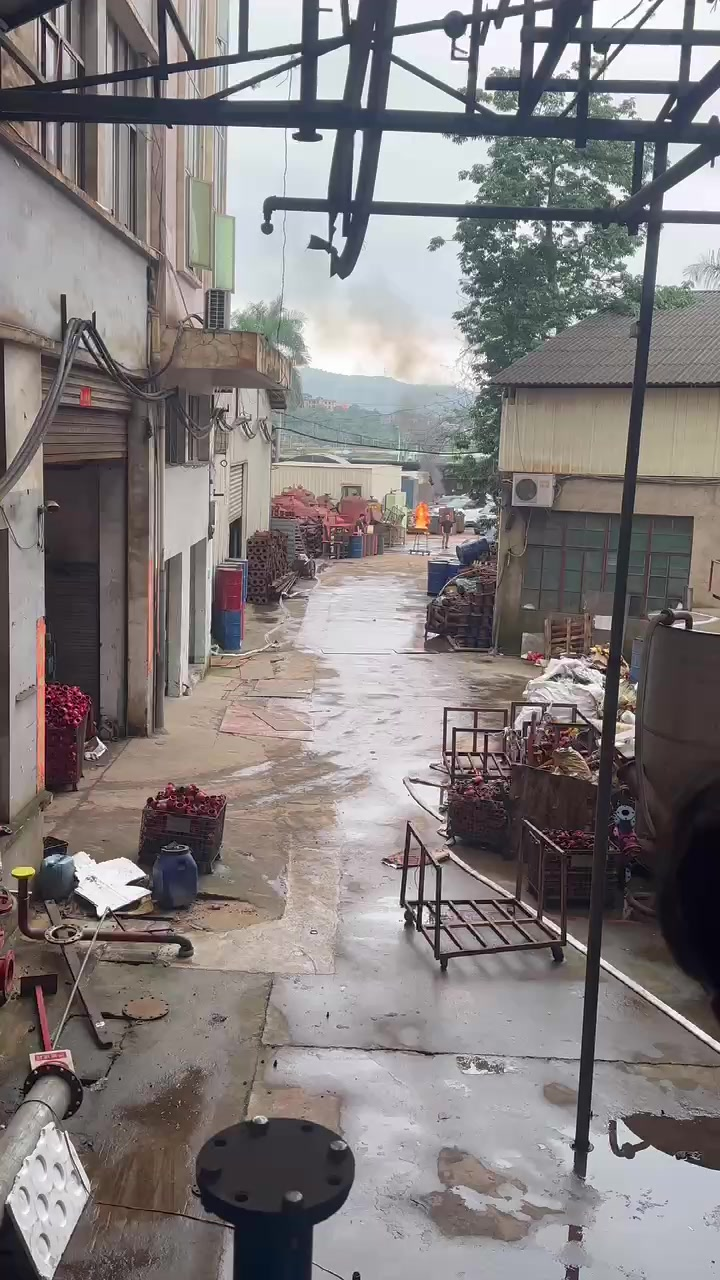fire: (414, 502, 428, 527)
